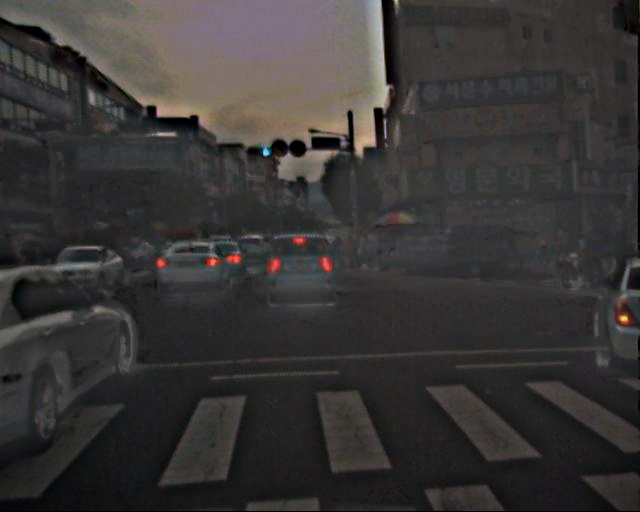person: (353, 229, 402, 276), (573, 235, 595, 288), (553, 227, 571, 270), (534, 229, 551, 271)
